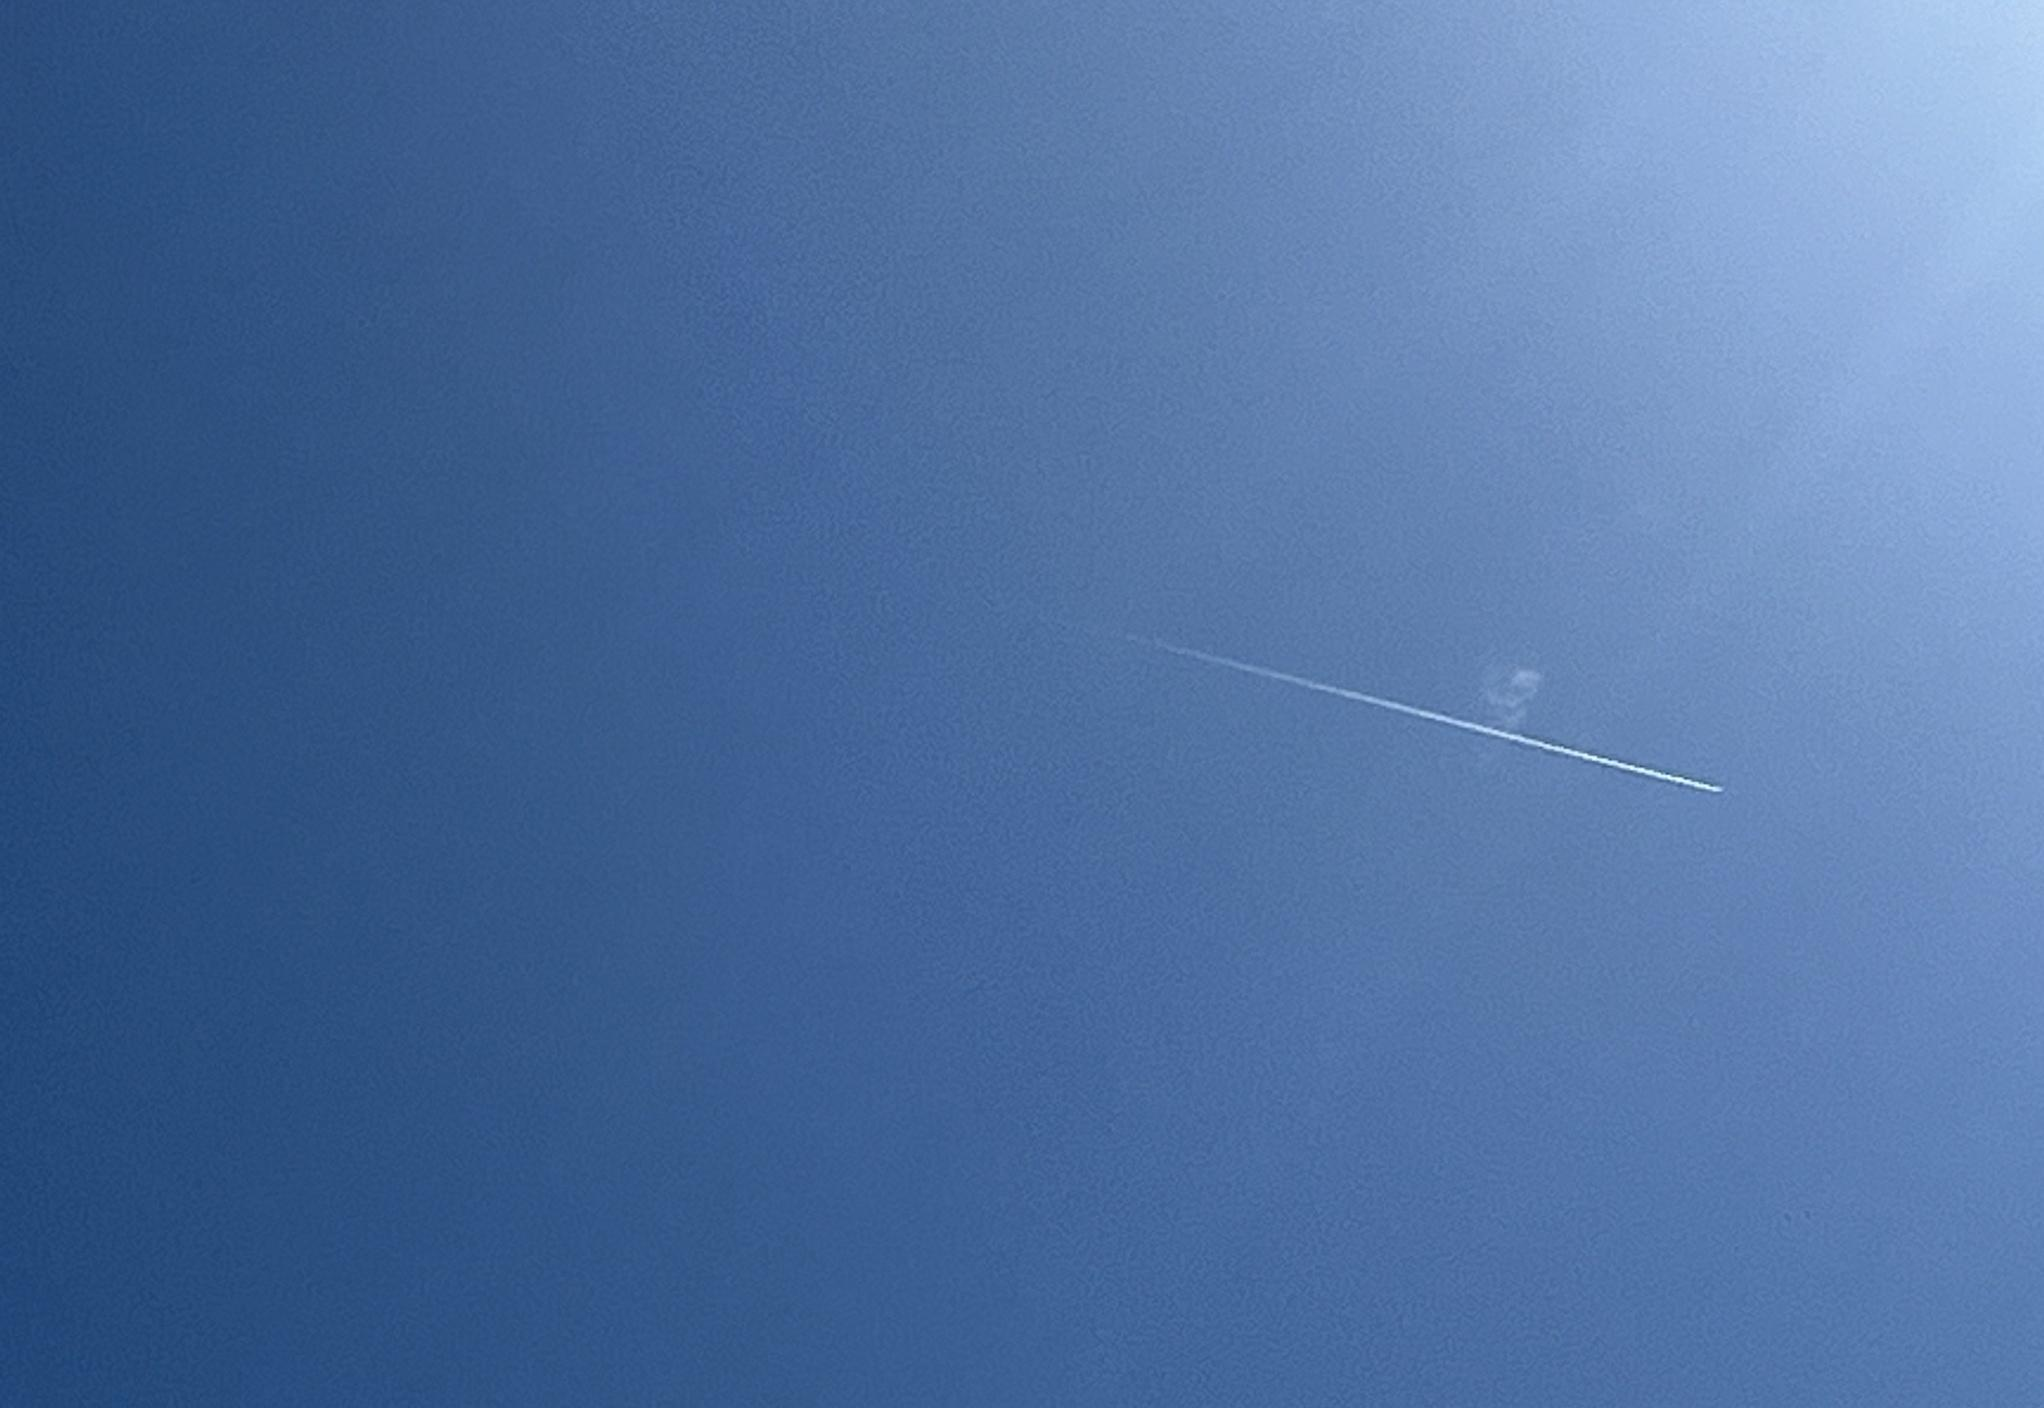Plane: (1095, 627, 1758, 820)
